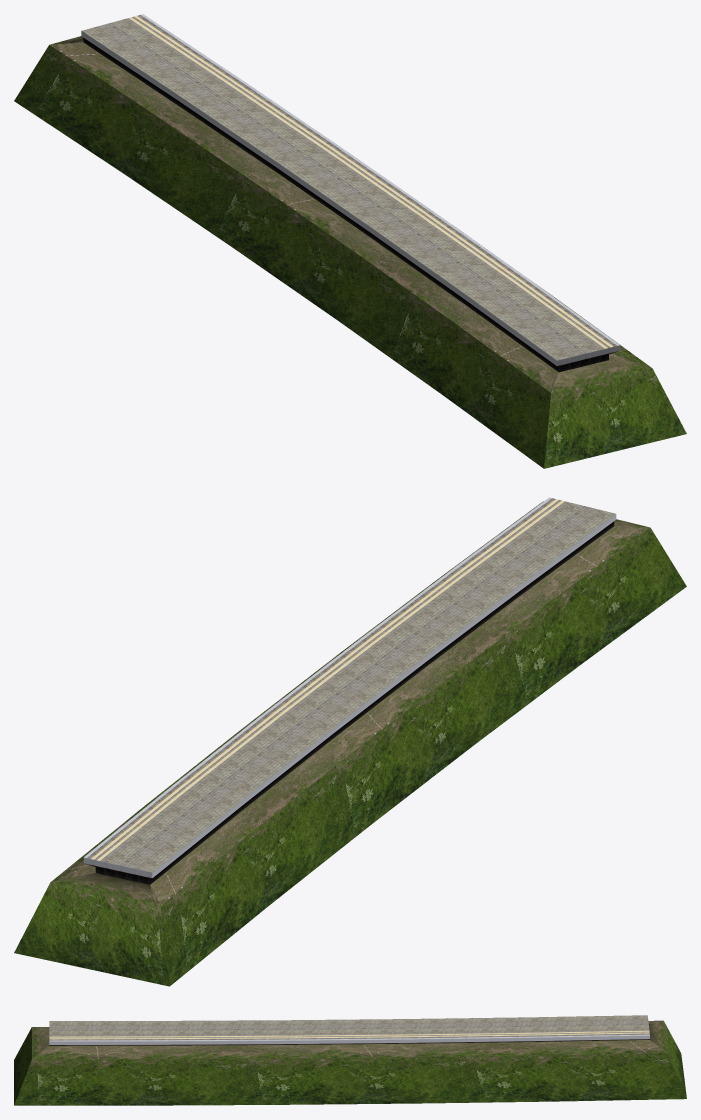
The model's file is platform_rus_1l50.gltf.
3 renders of one model, top to bottom at view 1: azimuth 30°, elevation 25°; view 2: azimuth 150°, elevation 25°; view 3: azimuth 270°, elevation 25°, orthographic. The views are drawn at different scales.
Bounding box in the file's own units: 10.32 × 4.75 × 56.1.
1 material, 1 textured.
